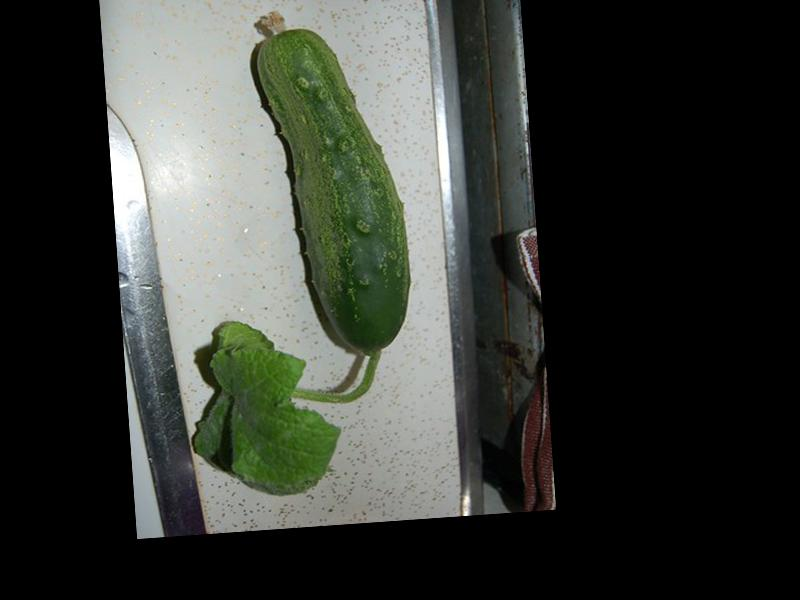Cucumber: (250, 2, 416, 363)
